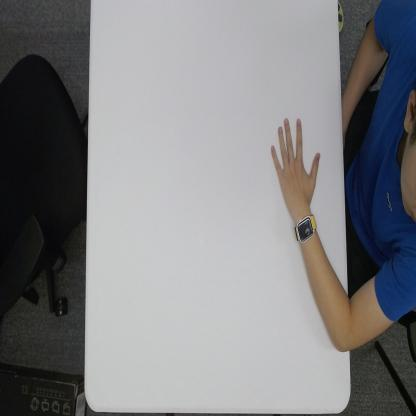Arm: (302, 243, 349, 351)
Hand: (270, 110, 316, 210)
